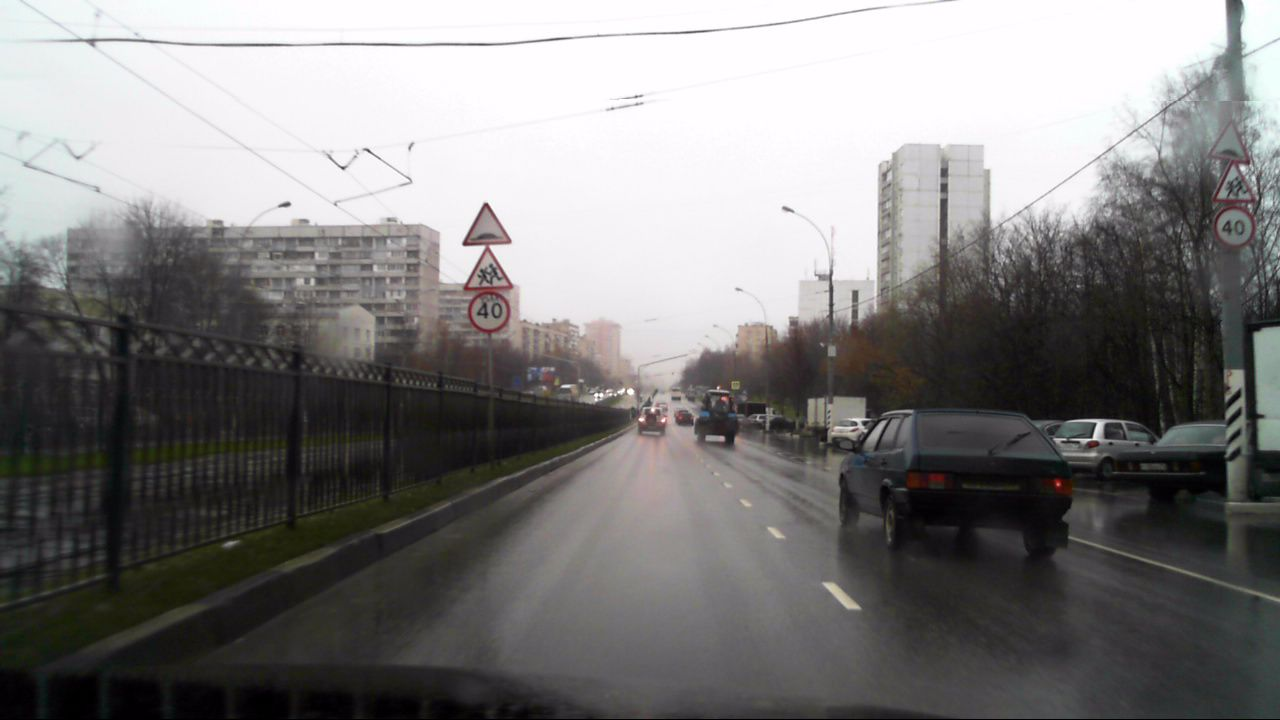speed_warning_40: (467, 293, 508, 332)
